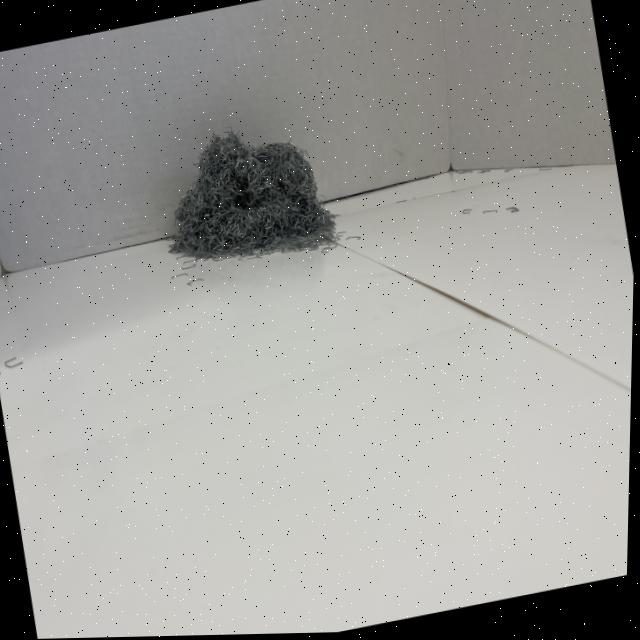staples: (150, 107, 343, 274)
